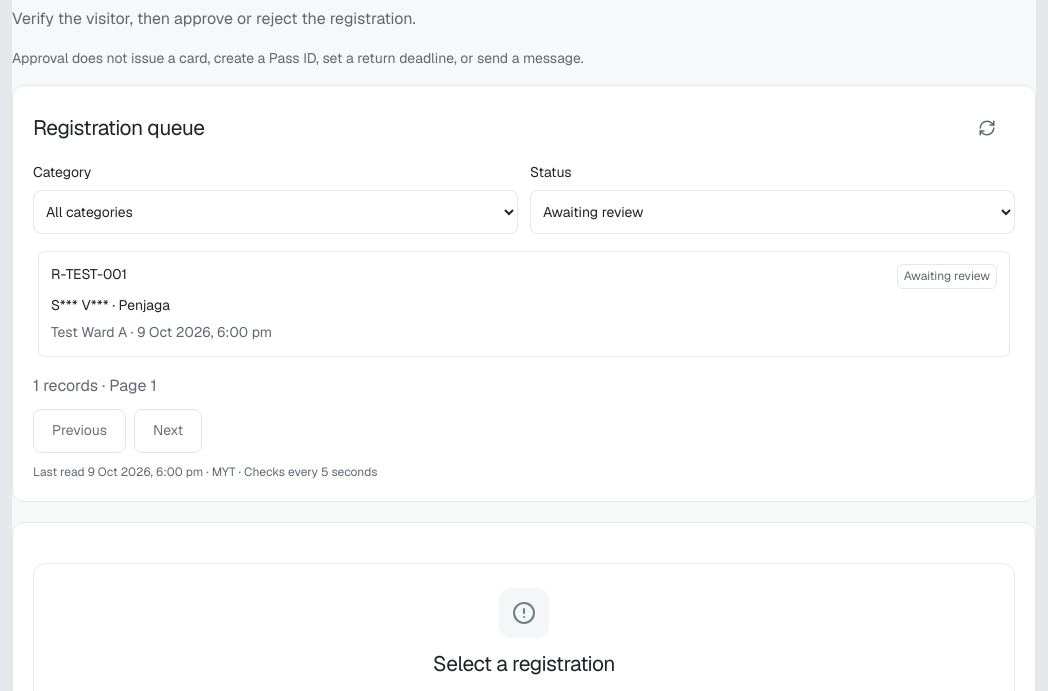
Test: masked counter review and explicit staff evidence › starts with a masked queue and no invented pass or patient verification
Expected: the heading "Select a registration" is shown, [433,650,615,679]
Click the button "R-TEST-001" at (89, 274), box [38,251,1010,357]
(page scrolled)
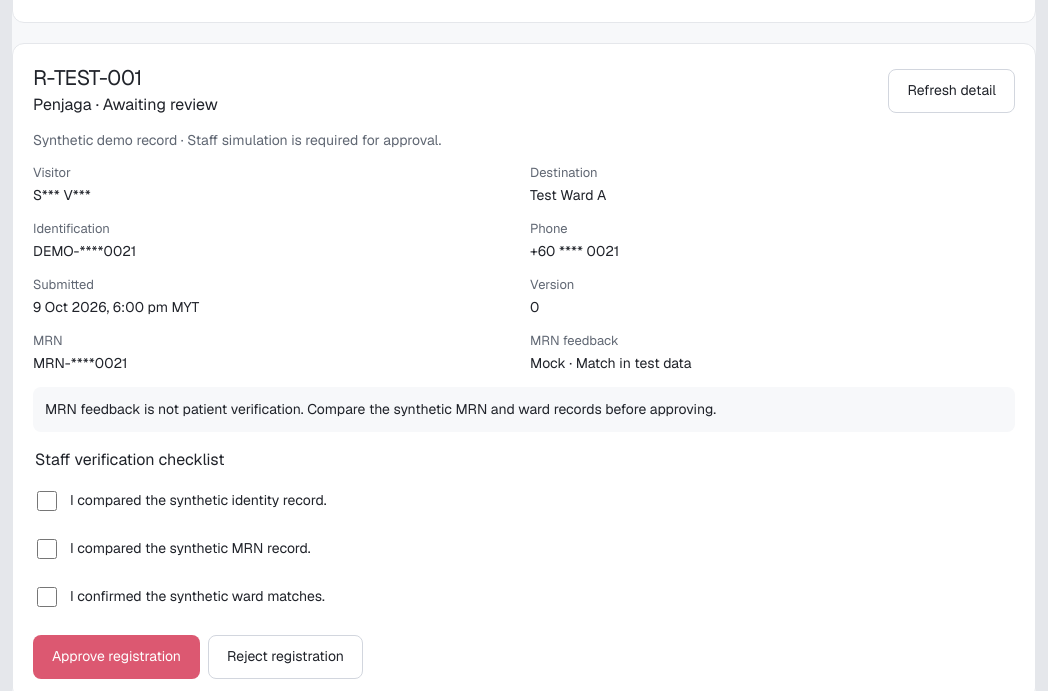
Expected: the heading "R-TEST-001" is shown, [33,64,142,91]
Expected: the button "Approve registration" is disabled, [33,635,200,679]
Expected: the text "Mock · Match in test data" is shown, [530,354,691,372]
